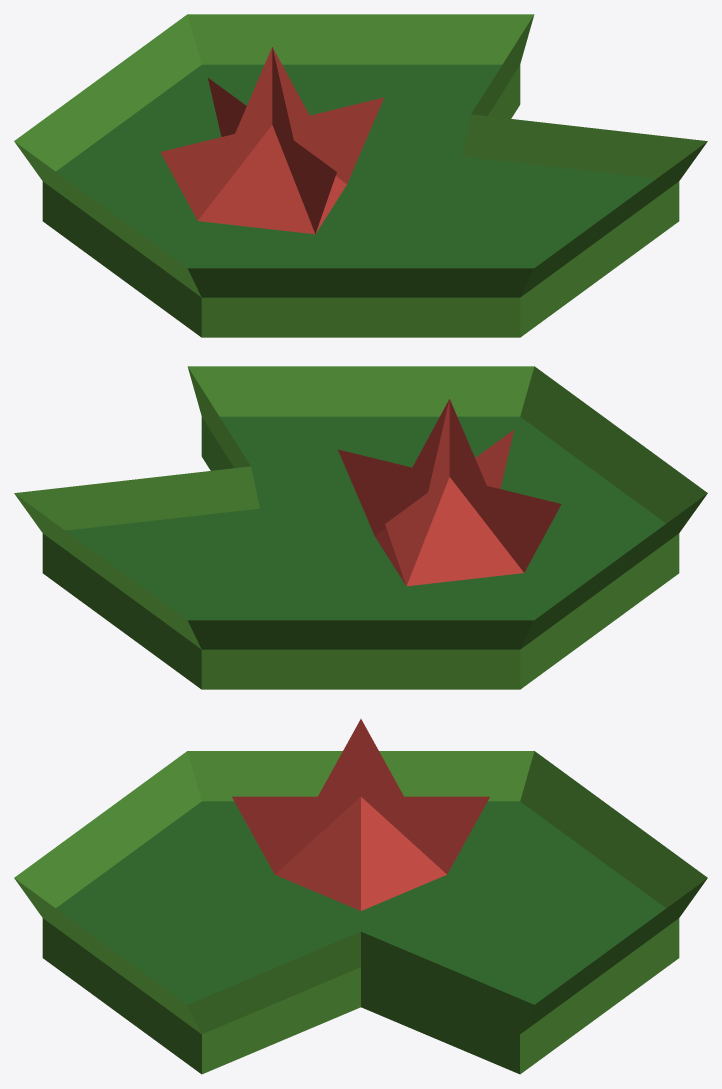
Rendered from lily.glb.
3 renders of one model, top to bottom at view 1: azimuth 30°, elevation 25°; view 2: azimuth 150°, elevation 25°; view 3: azimuth 270°, elevation 25°, orthographic.
Visible parts, largest first — view 1: lily_large; view 2: lily_large; view 3: lily_large.
Part boxes in pixels (left/top/right/bottom): lily_large: left=14, top=14, right=707, bottom=337; lily_large: left=14, top=366, right=707, bottom=689; lily_large: left=14, top=719, right=707, bottom=1074.
Bounding box in the file's own units: 0.1387 × 0.05 × 0.1602.
